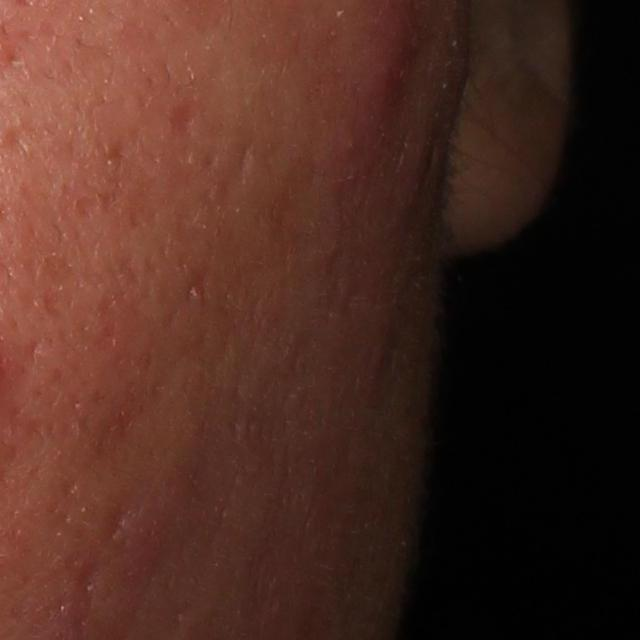atrophic_scar: (180, 257, 217, 310), (170, 100, 200, 138), (228, 141, 258, 179), (105, 504, 129, 542)
